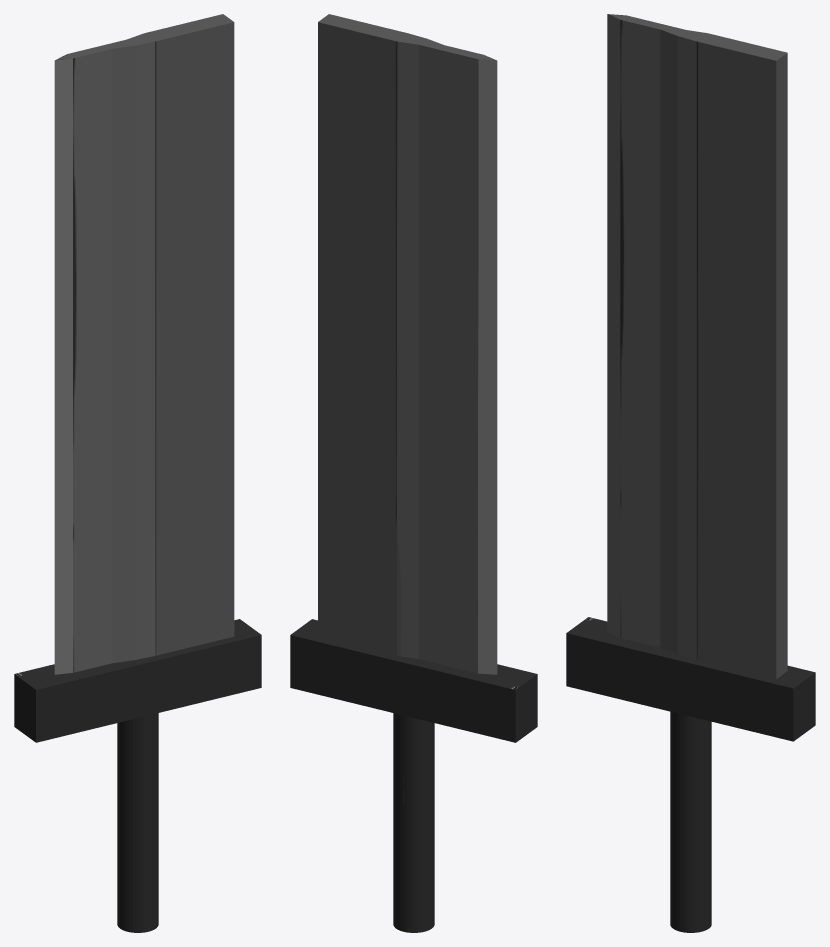
File: weapon.obj
3 renders of one model, left to right at view 1: azimuth 30°, elevation 25°; view 2: azimuth 150°, elevation 25°; view 3: azimuth 330°, elevation 25°, orthographic.
Visible parts, largest first — view 1: 立方体.001; view 2: 立方体.001; view 3: 立方体.001.
Part boxes in pixels (x1,y1,x2,y2): 立方体.001: [14, 14, 261, 932]; 立方体.001: [290, 14, 537, 932]; 立方体.001: [566, 14, 815, 932].
Bounding box in the file's own units: 2.14 × 8.01 × 0.36.
Materials: 1 (1 with a texture image).
